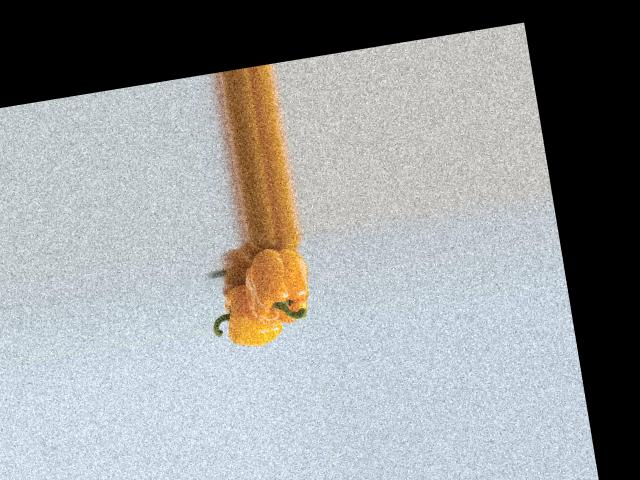bell_pepper: (206, 268, 287, 352)
